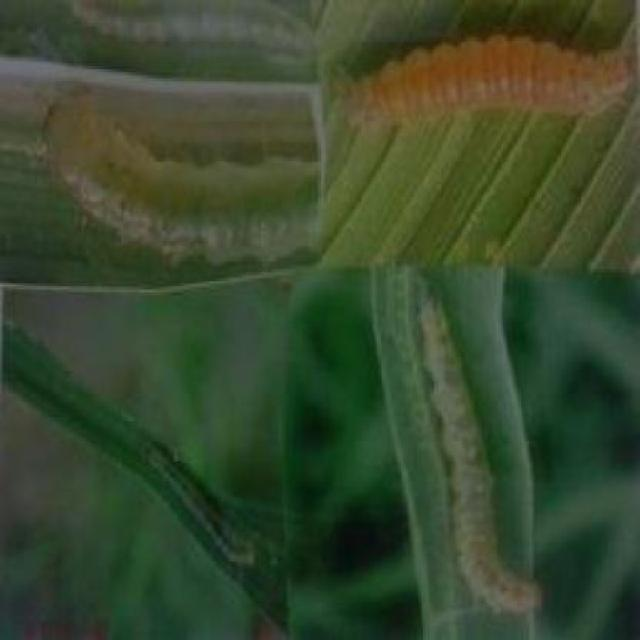leaf-folder: (382, 281, 560, 621), (40, 84, 326, 273), (340, 20, 640, 149), (129, 424, 269, 576), (57, 0, 329, 74)
